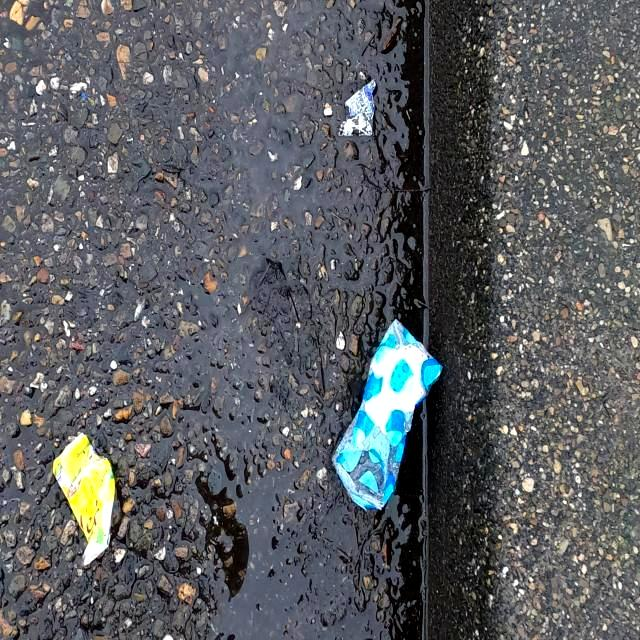Paper: (364, 344, 440, 448)
Plastic: (331, 316, 443, 512), (52, 430, 116, 566), (338, 79, 376, 137)
